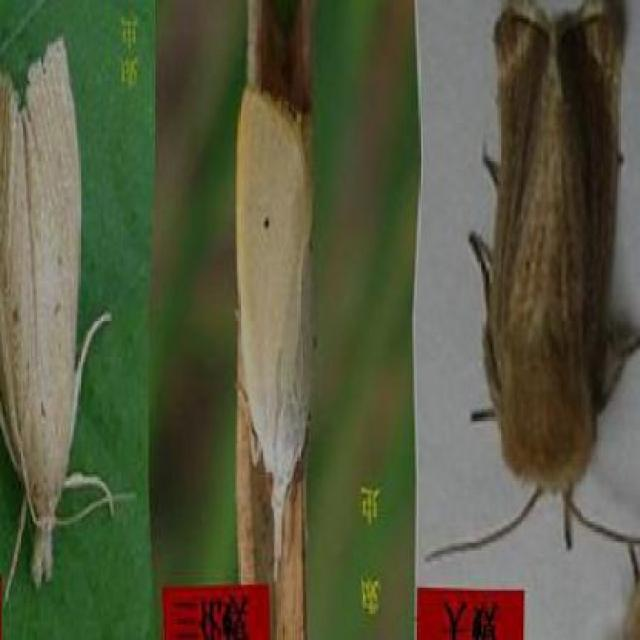stem-borer: (467, 0, 640, 558), (0, 33, 127, 605), (231, 85, 317, 577)
